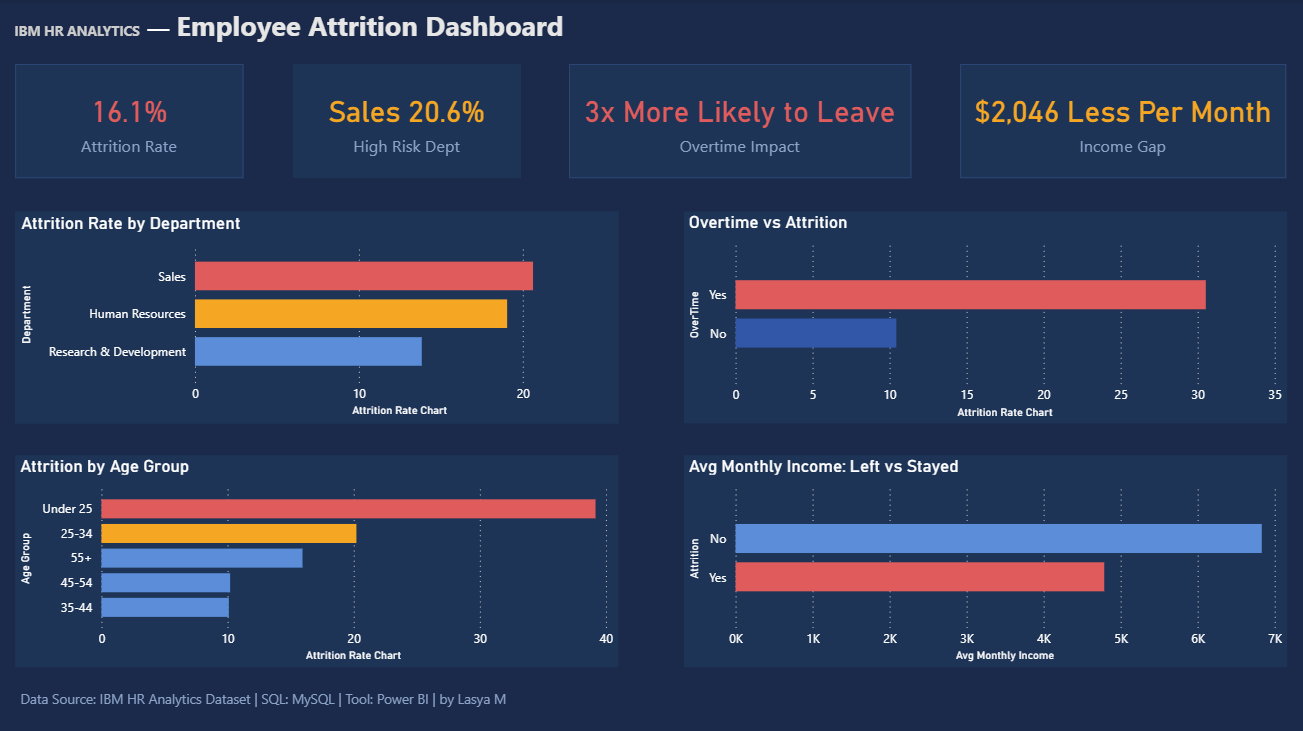

Layout of this report page (visuals, bound fields, positions):
{"tool":"powerbi","page":{"name":"Page 1","canvas":[1280,720],"ordinal":0},"visuals":[{"type":"textbox","box":[0,0,1280,64],"z":0},{"type":"card","fields":{"Values":["WA_Fn-UseC_-HR-Employee-Attrition.Attrition Rate"]},"box":[16,64,224,112],"z":1000},{"type":"card","fields":{"Values":["WA_Fn-UseC_-HR-Employee-Attrition.High Risk Dept"]},"box":[288,64,224,112],"z":2000},{"type":"card","fields":{"Values":["WA_Fn-UseC_-HR-Employee-Attrition.Overtime Impact"]},"box":[560,64,336,112],"z":3000},{"type":"card","fields":{"Values":["WA_Fn-UseC_-HR-Employee-Attrition.Income Gap"]},"box":[944,64,320,112],"z":4000},{"type":"clusteredBarChart","title":"Attrition Rate by Department","fields":{"Category":["WA_Fn-UseC_-HR-Employee-Attrition.Department"],"Y":["WA_Fn-UseC_-HR-Employee-Attrition.Attrition Rate Chart"]},"box":[16,208,592,208],"z":5000},{"type":"clusteredBarChart","title":"Overtime vs Attrition","fields":{"Category":["WA_Fn-UseC_-HR-Employee-Attrition.OverTime"],"Y":["WA_Fn-UseC_-HR-Employee-Attrition.Attrition Rate Chart"]},"box":[672,208,592,208],"z":6000},{"type":"clusteredBarChart","title":"Attrition by Age Group","fields":{"Category":["WA_Fn-UseC_-HR-Employee-Attrition.Age Group"],"Y":["WA_Fn-UseC_-HR-Employee-Attrition.Attrition Rate Chart"]},"box":[16,448,592,208],"z":7000},{"type":"clusteredBarChart","title":"Avg Monthly Income: Left vs Stayed","fields":{"Category":["WA_Fn-UseC_-HR-Employee-Attrition.Attrition"],"Y":["WA_Fn-UseC_-HR-Employee-Attrition.Avg Monthly Income"]},"box":[672,448,592,208],"z":8000},{"type":"textbox","box":[16,672,496,32],"z":8001}]}

Visuals, with their boxes in screenshot pixels (x1, y1, x2, y2), scaled from the page's 1280x720 canvas onto the 1303x731 screenshot:
textbox: x1=0 y1=0 x2=1302 y2=65
card - WA_Fn-UseC_-HR-Employee-Attrition.Attrition Rate: x1=16 y1=65 x2=244 y2=179
card - WA_Fn-UseC_-HR-Employee-Attrition.High Risk Dept: x1=293 y1=65 x2=521 y2=179
card - WA_Fn-UseC_-HR-Employee-Attrition.Overtime Impact: x1=570 y1=65 x2=912 y2=179
card - WA_Fn-UseC_-HR-Employee-Attrition.Income Gap: x1=961 y1=65 x2=1287 y2=179
"Attrition Rate by Department" clusteredBarChart: x1=16 y1=211 x2=619 y2=422
"Overtime vs Attrition" clusteredBarChart: x1=684 y1=211 x2=1287 y2=422
"Attrition by Age Group" clusteredBarChart: x1=16 y1=455 x2=619 y2=666
"Avg Monthly Income: Left vs Stayed" clusteredBarChart: x1=684 y1=455 x2=1287 y2=666
textbox: x1=16 y1=682 x2=521 y2=715
